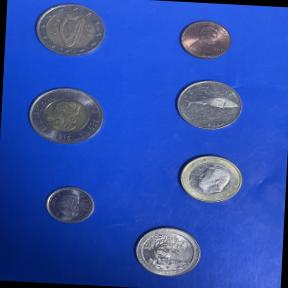coin: (24, 83, 110, 150), (30, 0, 113, 63), (171, 76, 247, 134), (129, 223, 205, 281), (174, 152, 246, 210), (40, 182, 100, 227), (176, 17, 234, 63)
